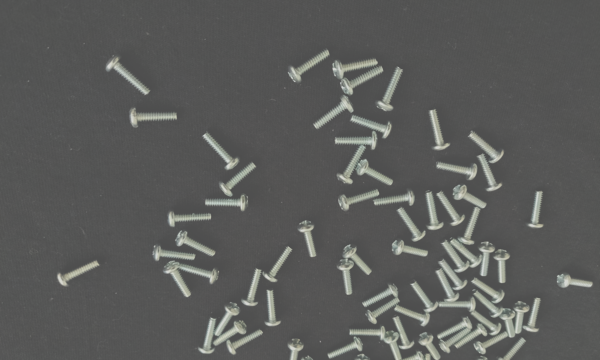shortscrew: (104, 54, 151, 96), (313, 92, 354, 130), (288, 48, 331, 84), (202, 131, 240, 171), (340, 64, 385, 95), (218, 162, 257, 197), (375, 66, 404, 112), (337, 144, 368, 185), (263, 244, 294, 284), (56, 261, 100, 288), (469, 131, 504, 164), (175, 229, 216, 257), (128, 106, 177, 129), (396, 206, 427, 242), (436, 190, 466, 227), (163, 260, 191, 298), (356, 159, 394, 187), (362, 281, 400, 309), (351, 114, 393, 139), (333, 57, 378, 80), (177, 262, 220, 286), (226, 329, 265, 355), (212, 320, 248, 348), (342, 243, 372, 276), (409, 280, 439, 313), (450, 238, 483, 268), (471, 277, 506, 305), (478, 153, 503, 192), (214, 301, 241, 337), (365, 298, 401, 325), (339, 187, 379, 211), (443, 240, 470, 274), (430, 109, 451, 152), (167, 208, 212, 228), (473, 289, 503, 319), (458, 208, 482, 245), (205, 193, 249, 213), (242, 266, 264, 306), (452, 184, 487, 209), (437, 315, 472, 340), (440, 260, 469, 290), (455, 323, 488, 349), (328, 335, 363, 359), (470, 310, 502, 336), (153, 243, 196, 262), (335, 132, 378, 151), (394, 305, 431, 327), (439, 327, 469, 354), (425, 190, 445, 230), (437, 267, 459, 303), (475, 332, 509, 355), (526, 189, 546, 228), (393, 315, 415, 350), (438, 162, 478, 181), (374, 188, 415, 206), (298, 220, 317, 258), (264, 289, 283, 327), (198, 317, 217, 355), (392, 239, 428, 258), (523, 297, 542, 333), (498, 336, 526, 360), (337, 258, 355, 295), (439, 296, 477, 313), (494, 249, 512, 284), (418, 333, 441, 360), (349, 325, 387, 341), (479, 242, 496, 276), (558, 272, 593, 288), (500, 308, 517, 339), (515, 301, 530, 334), (385, 331, 402, 360), (287, 338, 305, 360), (286, 353, 316, 360), (467, 355, 492, 360), (421, 353, 436, 360), (356, 354, 371, 360), (367, 359, 389, 360)
